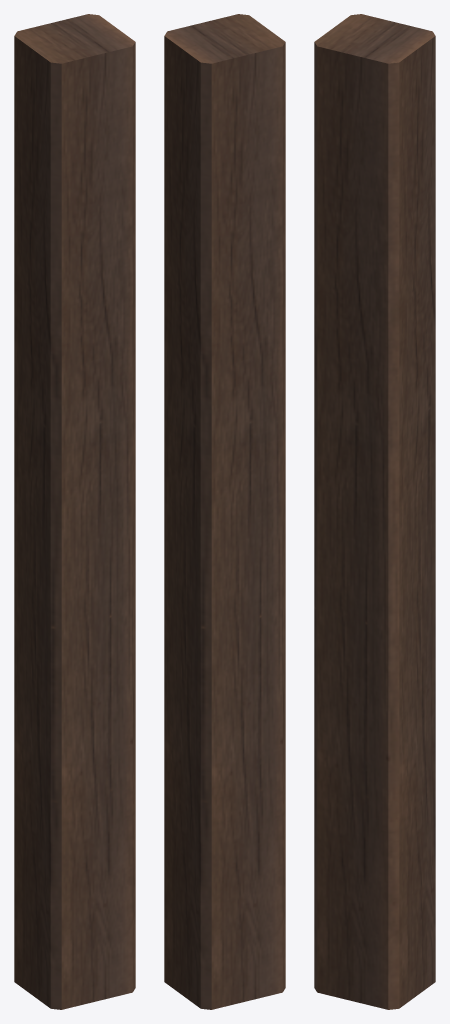
Rendered from fence10pile1.fbx.
3 renders of one model, left to right at view 1: azimuth 30°, elevation 25°; view 2: azimuth 210°, elevation 25°; view 3: azimuth 330°, elevation 25°, orthographic.
Parts seen in each view (by area): view 1: fence10pile1; view 2: fence10pile1; view 3: fence10pile1.
Boxes of the visible parts, bbox=[...] form: fence10pile1: bbox=[14, 14, 135, 1009]; fence10pile1: bbox=[164, 14, 285, 1009]; fence10pile1: bbox=[314, 14, 435, 1009].
Bounding box in the file's own units: 24.94 × 266 × 22.52.
